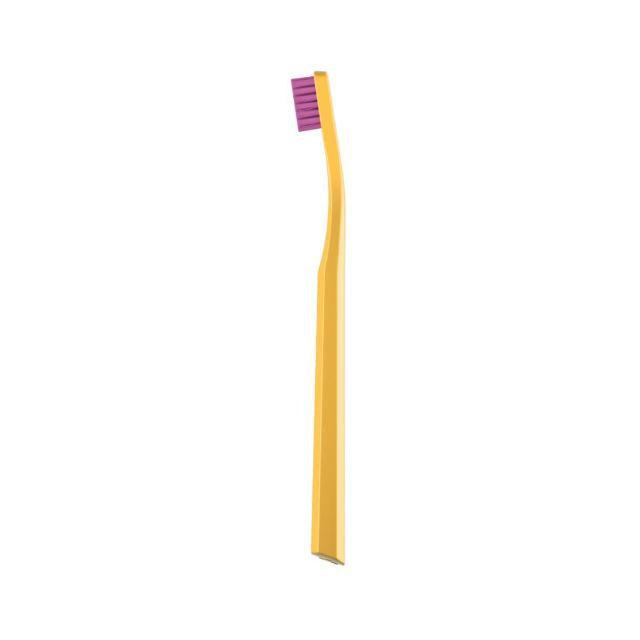toothbrush: (250, 39, 384, 588)
